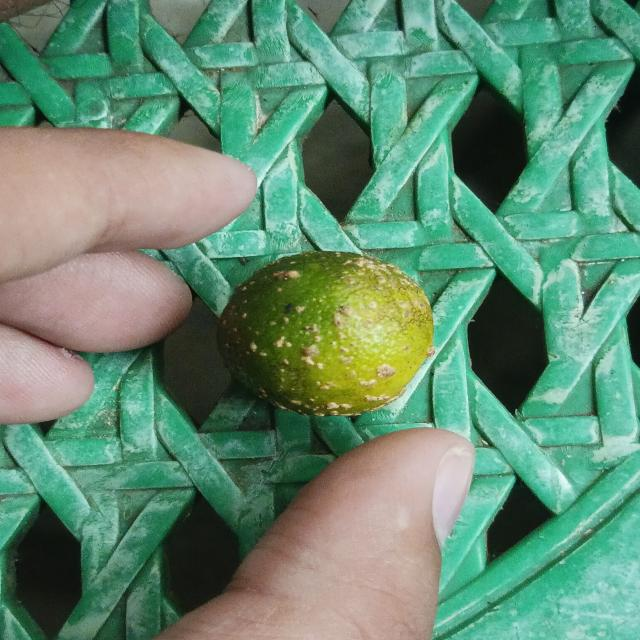scab: (212, 245, 436, 420)
